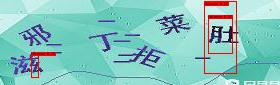chinese: (131, 40, 165, 73), (3, 56, 45, 79), (158, 10, 190, 38), (20, 20, 51, 48), (210, 24, 243, 49), (90, 28, 120, 53)
